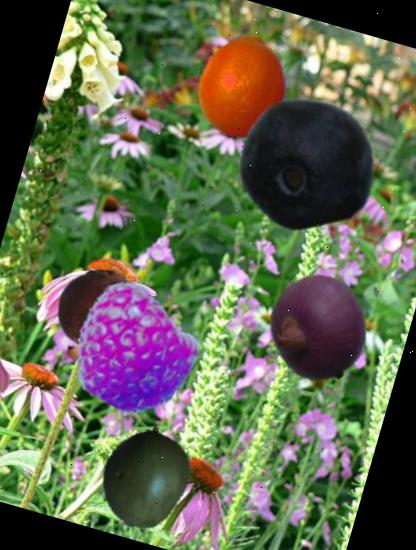Blueberry: (221, 78, 390, 246)
Mango: (82, 414, 208, 540)
Mangostan: (39, 258, 160, 379)
Onion: (254, 262, 385, 393)
Raspberry: (57, 276, 208, 427)
Tangelo: (179, 21, 308, 150)
